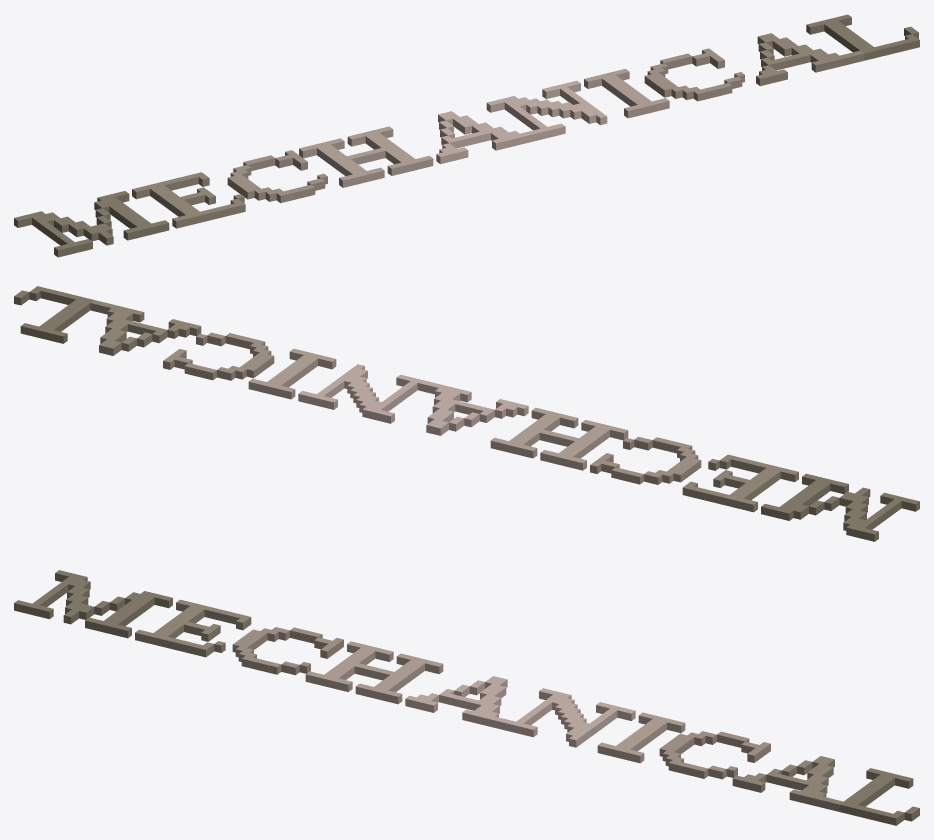
Rendered from mech-0-MECH.obj.
3 views of the same model, one above another, from view 1: azimuth 30°, elevation 25°; view 2: azimuth 150°, elevation 25°; view 3: azimuth 330°, elevation 25° (orthographic). The views are drawn at different scales.
Visible parts, largest first — view 1: MECH; view 2: MECH; view 3: MECH.
Boxes of the visible parts, x1,y1,x2,y2 form: MECH: (14,14,919,257); MECH: (14,286,919,541); MECH: (14,570,919,825).
Bounding box in the file's own units: 12.5 × 0.1 × 1.1.
Materials: 1 (1 with a texture image).
